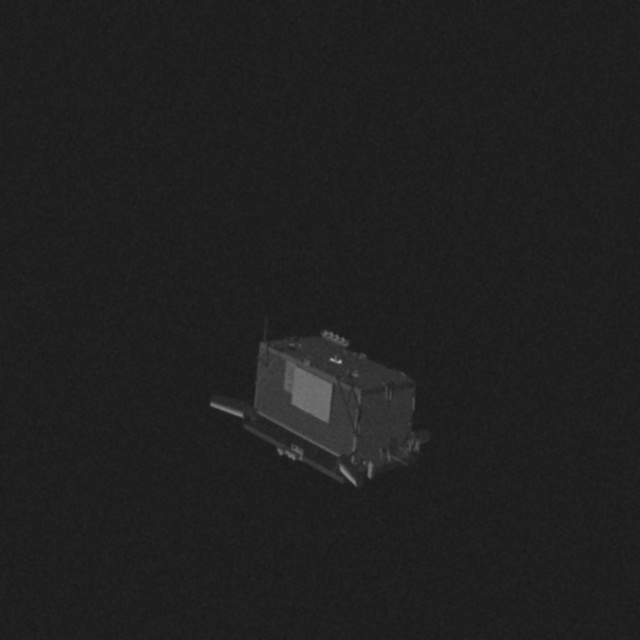satellite: (208, 302, 424, 496)
